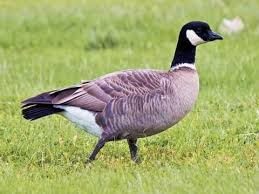goose: (15, 16, 226, 167)
